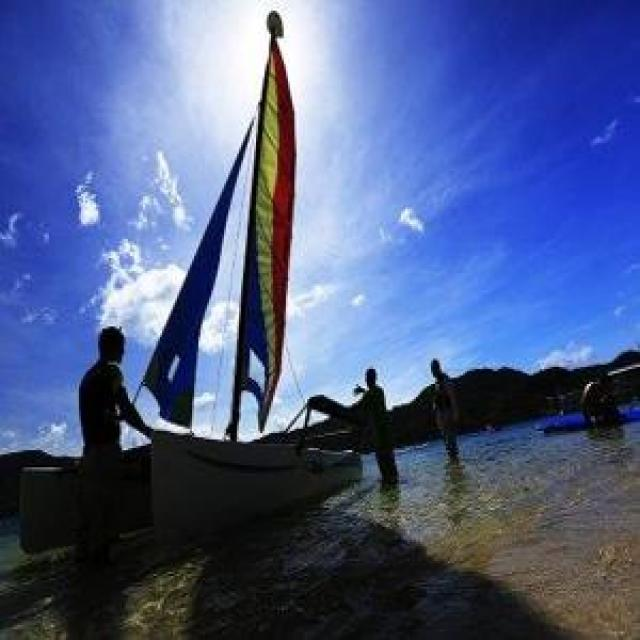sailboat: (27, 2, 366, 532)
